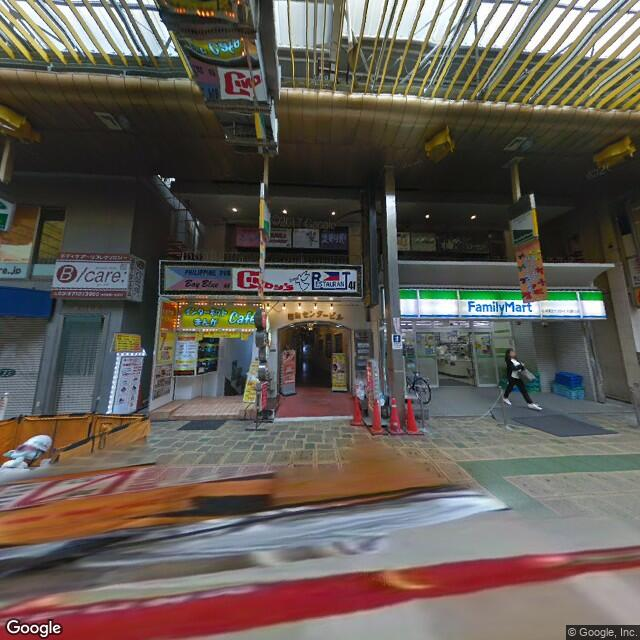family_mart: (396, 286, 608, 322), (461, 298, 535, 319)
